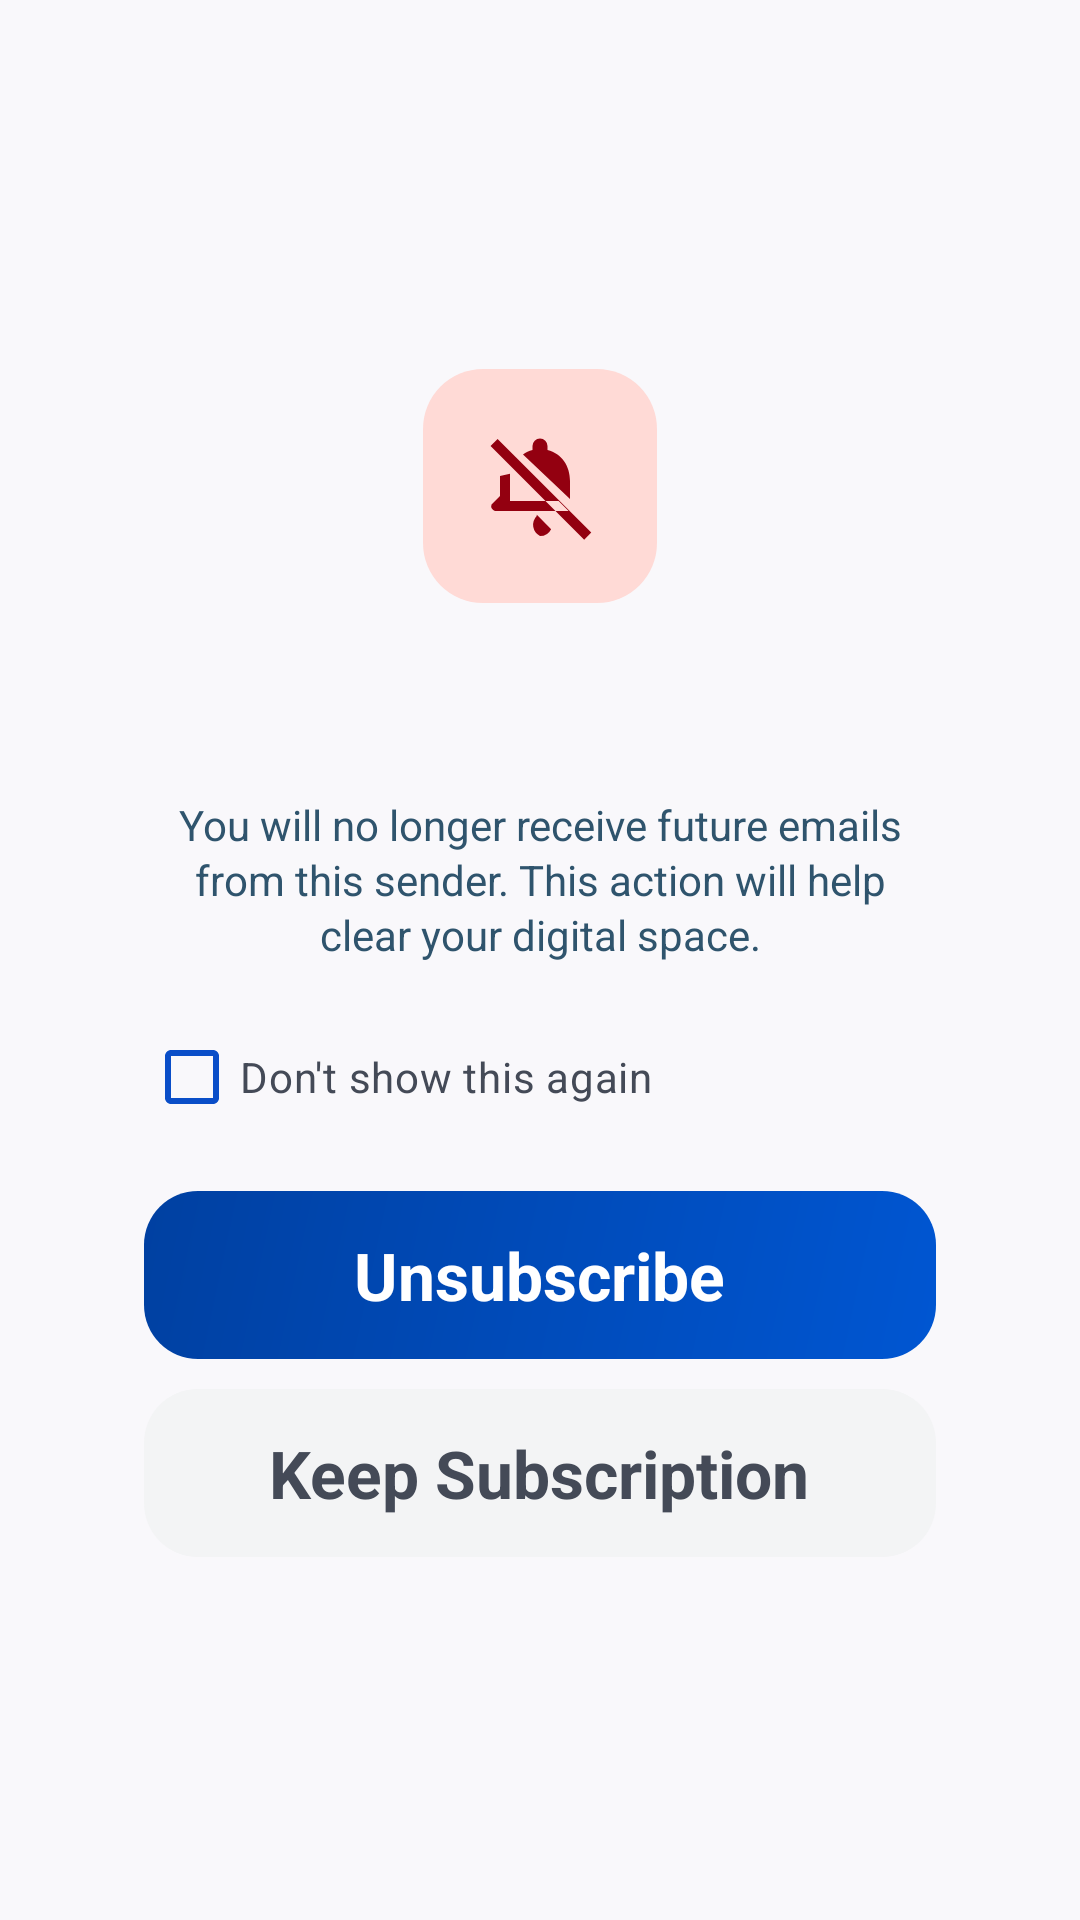

Screen size 1080w x 1920h. Icon name, then its box in pixels as (x1, y1, x2, y2):
modal notifications off: (491, 438, 591, 540)
